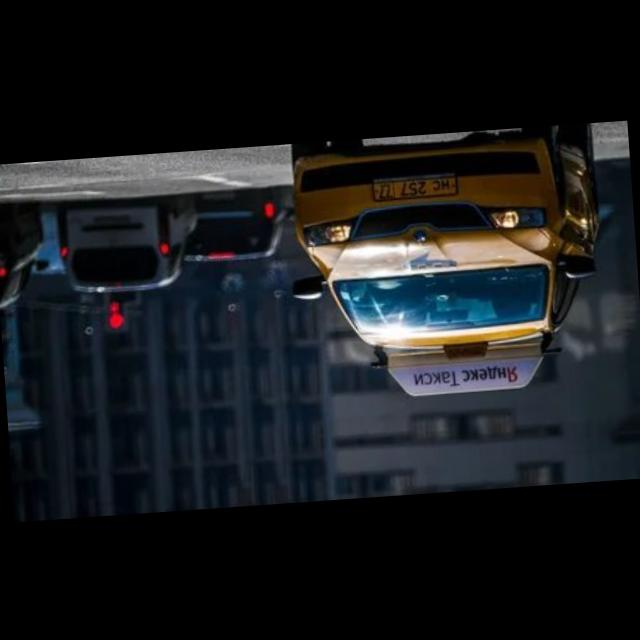taxi: (281, 123, 613, 406)
